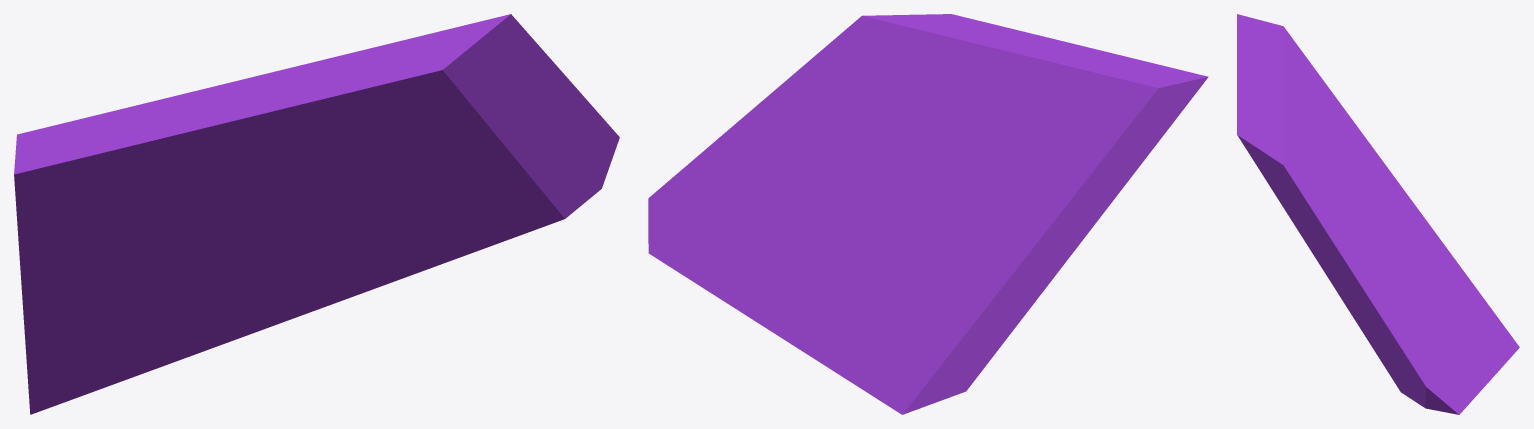
The model's file is Window_127_3_chunks.fbx.
3 renders of one model, left to right at view 1: azimuth 30°, elevation 25°; view 2: azimuth 150°, elevation 25°; view 3: azimuth 270°, elevation 25°, orthographic. The views are drawn at different scales.
Parts seen in each view (by area): view 1: Window_127_3_11, Window_127_3_4, Window_127_3_2, Window_127_3_1, Window_127_3_10, Window_127_3_3, Window_127_3_5, Window_127_3_6, Window_127_3_7, Window_127_3_9, Window_127_3_0, Window_127_3_12; view 2: Window_127_3_1, Window_127_3_2, Window_127_3_4, Window_127_3_0, Window_127_3_5, Window_127_3_6, Window_127_3_7, Window_127_3_10, Window_127_3_12, Window_127_3_8, Window_127_3_11; view 3: Window_127_3_4, Window_127_3_2, Window_127_3_0, Window_127_3_10, Window_127_3_6, Window_127_3_11, Window_127_3_5, Window_127_3_7, Window_127_3_1, Window_127_3_12, Window_127_3_8.
Boxes of the visible parts, x1,y1,x2,y2 form: Window_127_3_11: (188, 27, 494, 170); Window_127_3_4: (14, 107, 269, 232); Window_127_3_2: (77, 201, 353, 397); Window_127_3_1: (17, 223, 166, 414); Window_127_3_10: (377, 29, 568, 220); Window_127_3_3: (78, 180, 304, 272); Window_127_3_5: (249, 213, 449, 334); Window_127_3_6: (410, 112, 619, 275); Window_127_3_7: (399, 79, 597, 228); Window_127_3_9: (255, 151, 386, 228); Window_127_3_0: (128, 61, 318, 120); Window_127_3_12: (448, 14, 523, 55); Window_127_3_1: (920, 141, 1158, 407); Window_127_3_2: (846, 164, 976, 414); Window_127_3_4: (938, 51, 1208, 206); Window_127_3_0: (832, 44, 1091, 206); Window_127_3_5: (756, 180, 865, 378); Window_127_3_6: (648, 161, 731, 305); Window_127_3_7: (692, 112, 846, 206); Window_127_3_10: (749, 37, 871, 158); Window_127_3_12: (836, 15, 927, 126); Window_127_3_8: (730, 191, 792, 321); Window_127_3_11: (884, 14, 1103, 82); Window_127_3_4: (1237, 14, 1381, 196); Window_127_3_2: (1362, 195, 1519, 362); Window_127_3_0: (1249, 57, 1398, 261); Window_127_3_10: (1272, 176, 1374, 306); Window_127_3_6: (1372, 333, 1478, 414); Window_127_3_11: (1237, 63, 1313, 189); Window_127_3_5: (1386, 259, 1506, 385); Window_127_3_7: (1346, 257, 1409, 345); Window_127_3_1: (1335, 96, 1502, 323); Window_127_3_12: (1272, 147, 1349, 216); Window_127_3_8: (1409, 305, 1484, 392).
Bounding box in the file's own units: 969 × 540 × 535.
